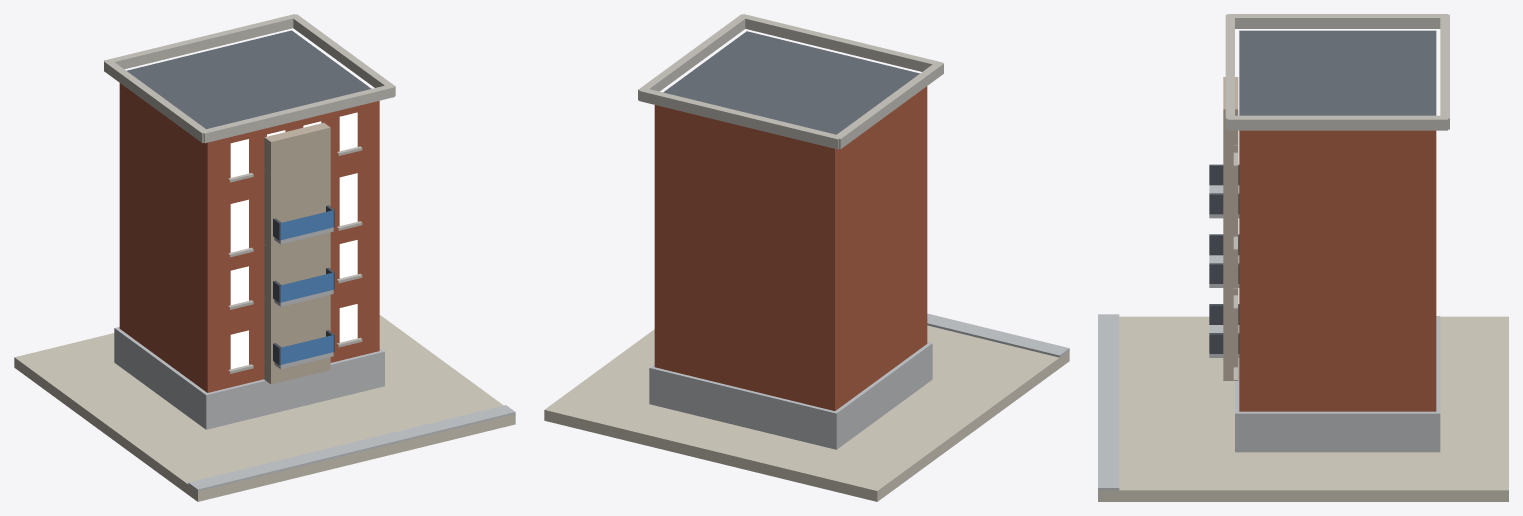
The picture shows the model from 3 angles, left to right: view 1: azimuth 30°, elevation 25°; view 2: azimuth 150°, elevation 25°; view 3: azimuth 270°, elevation 25°; orthographic projection. The views are drawn at different scales.
Visible parts, largest first — view 1: b05_v2_lod1; view 2: b05_v2_lod1; view 3: b05_v2_lod1.
Boxes of the visible parts, x1,y1,x2,y2 form: b05_v2_lod1: (14,14,515,501); b05_v2_lod1: (544,14,1069,501); b05_v2_lod1: (1098,14,1508,501).
Bounding box in the file's own units: 0.96 × 0.898 × 0.96.
